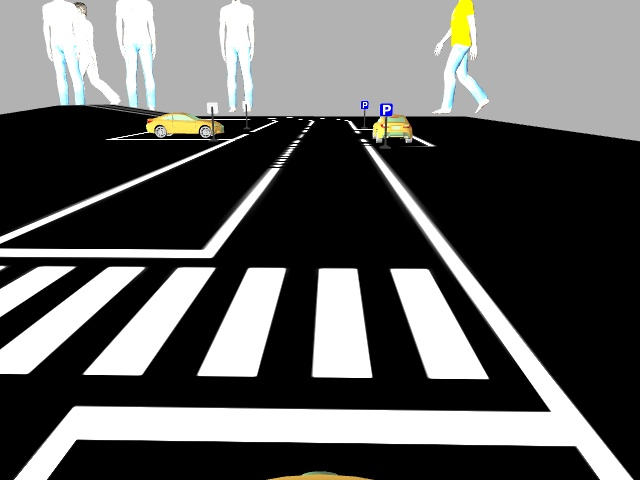Parking: (379, 100, 394, 117), (358, 99, 369, 108)
